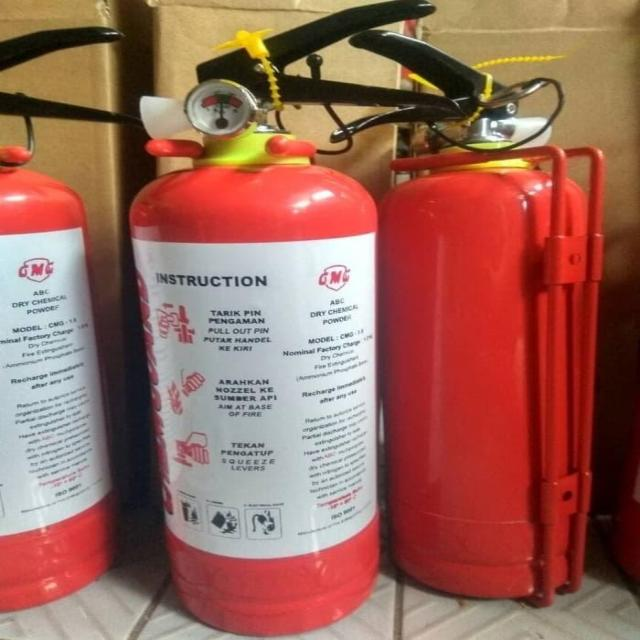fire_extinguisher: (113, 0, 460, 637), (319, 26, 604, 607), (0, 17, 157, 622)
